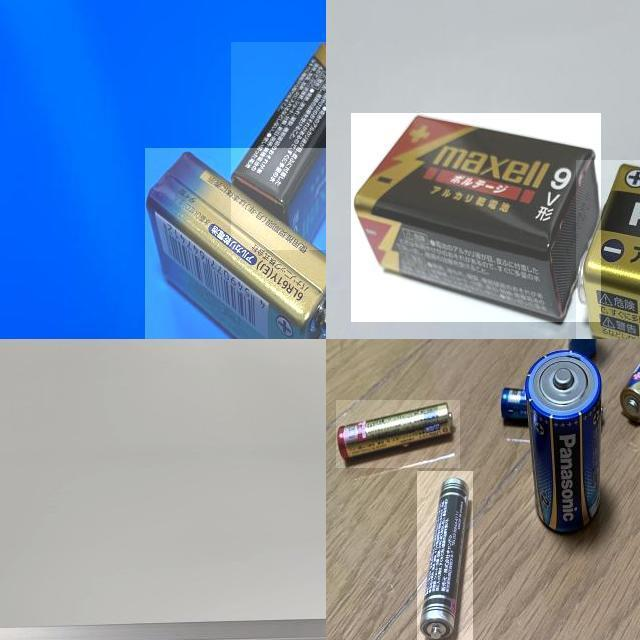9V: (352, 113, 602, 322), (145, 148, 326, 339), (231, 42, 326, 250)
